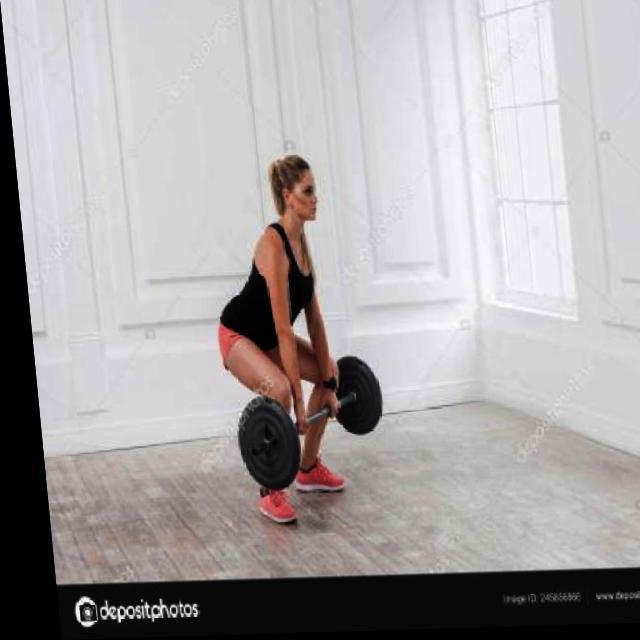barbell: (219, 400, 300, 494)
